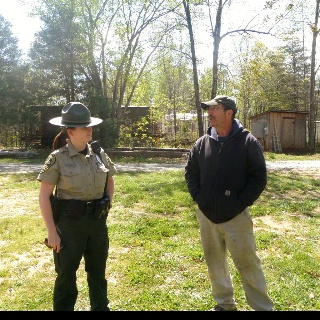without_mask: (207, 104, 225, 127), (74, 126, 91, 143)
